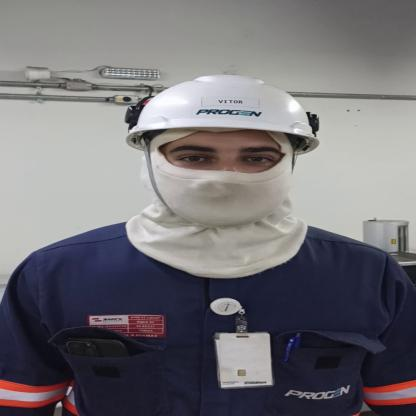Balaclava: (116, 136, 320, 280)
Capacete: (114, 74, 337, 152)
